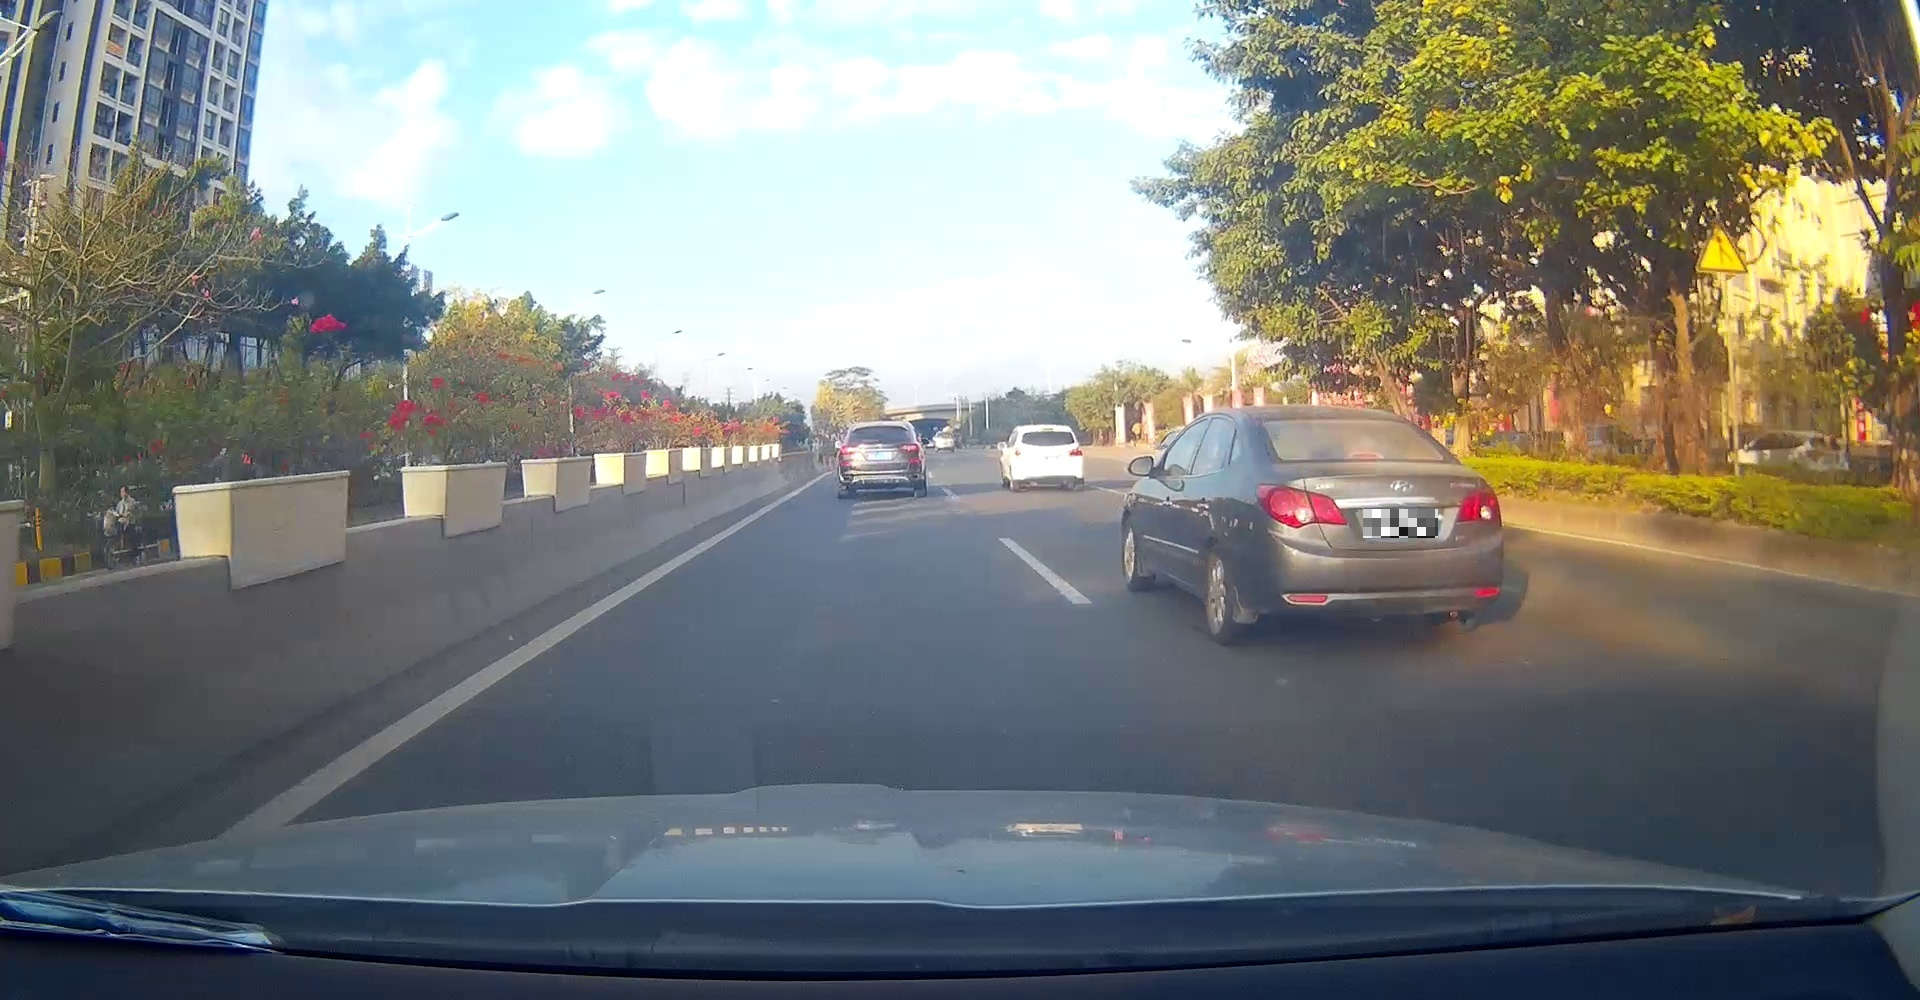L_light: (1253, 484, 1349, 530), (839, 445, 858, 454), (1012, 449, 1027, 457)
R_light: (1454, 487, 1501, 523), (898, 443, 919, 453), (1068, 447, 1083, 456)
T_light: (1346, 452, 1383, 459), (1041, 428, 1055, 431), (870, 426, 888, 429)
day-no: (1252, 407, 1503, 643), (838, 420, 924, 499), (1011, 424, 1084, 492)
plate_1: (1363, 509, 1437, 538)
